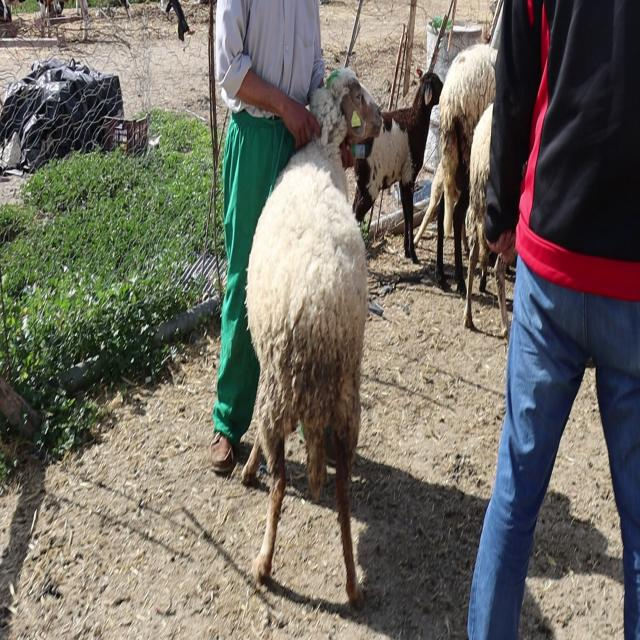Score_5: (241, 69, 383, 606)
